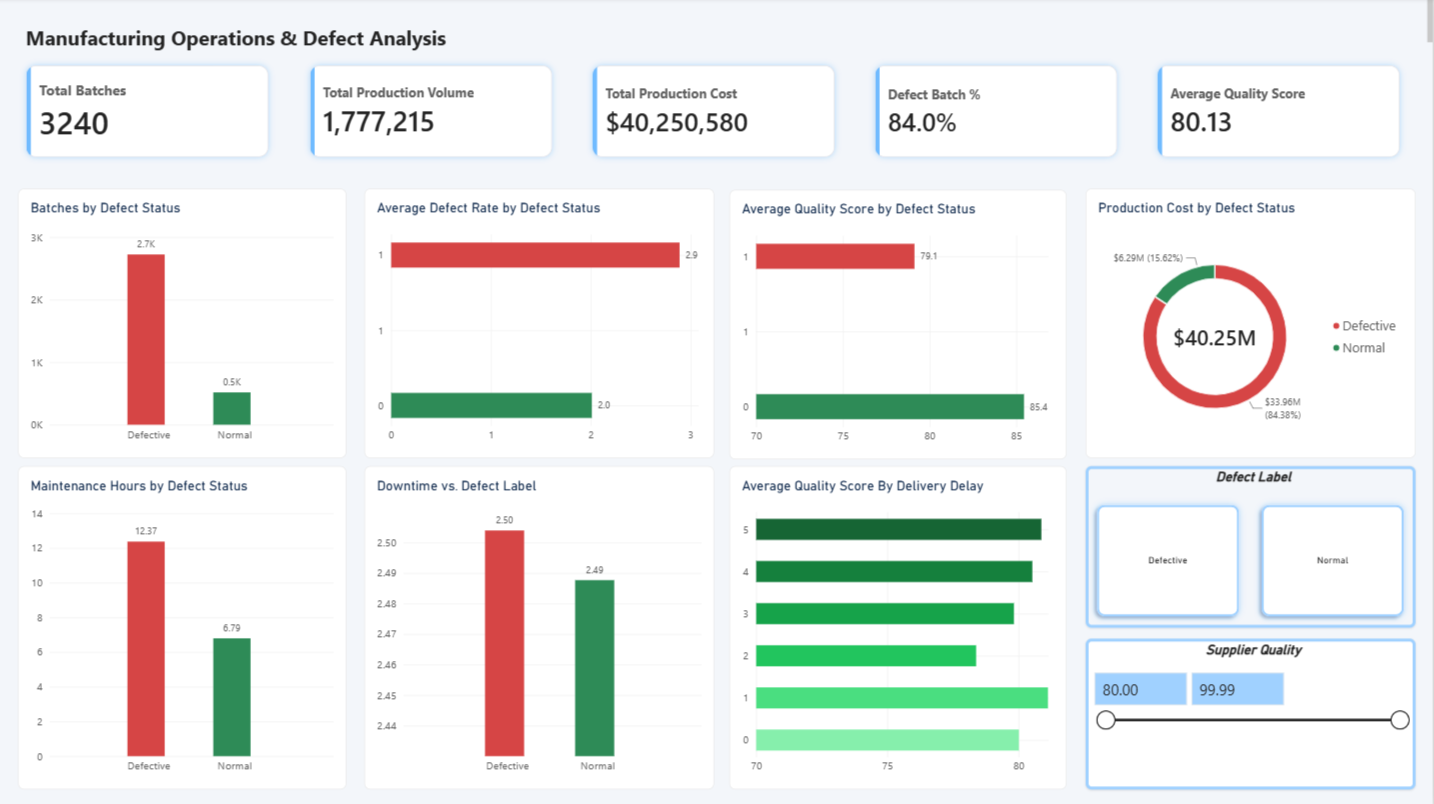

The dashboard page shown, as its layout file describes it:
{"tool":"powerbi","page":{"name":"Page 1","canvas":[1920,1080],"ordinal":0},"visuals":[{"type":"textbox","box":[10,0,280,280],"z":0},{"type":"textbox","box":[10.3,0,1910.1,80.3],"z":1000},{"type":"cardVisual","fields":{"Data":["_Measures.Total Batches"]},"box":[30.8,79.6,345.6,144.8],"z":2000},{"type":"cardVisual","fields":{"Data":["_Measures.Total Production Volume"]},"box":[409,79.6,345,144.8],"z":3000},{"type":"cardVisual","fields":{"Data":["_Measures.Total Production Cost"]},"box":[786,79.6,345,144.8],"z":4000},{"type":"cardVisual","fields":{"Data":["_Measures.Defect Batch %"]},"box":[1164,79.6,345,144],"z":5000},{"type":"cardVisual","fields":{"Data":["_Measures.Average Quality Score"]},"box":[1542,79.6,345,144.8],"z":6000},{"type":"clusteredColumnChart","title":"Batches by Defect Status","fields":{"Category":["clean_manufacturing_data.Defect Label"],"Y":["_Measures.Total Batches"]},"box":[30.9,255.2,438.4,360.2],"z":7000},{"type":"clusteredBarChart","title":"Average Defect Rate by Defect Status","fields":{"Category":["clean_manufacturing_data.DefectStatus"],"Y":["_Measures.Average Defect Rate"]},"box":[491.9,255.2,467.2,360.2],"z":8000},{"type":"clusteredBarChart","title":"Average Quality Score by Defect Status","fields":{"Category":["clean_manufacturing_data.DefectStatus"],"Y":["_Measures.Average Quality Score"]},"box":[979.8,257.3,450.8,360.2],"z":9000},{"type":"donutChart","title":"Production Cost by Defect Status","fields":{"Category":["clean_manufacturing_data.Defect Label"],"Y":["Sum(clean_manufacturing_data.ProductionCost)"]},"box":[1455.2,255.2,440.5,360.2],"z":10000},{"type":"clusteredColumnChart","title":"Maintenance Hours by Defect Status","fields":{"Category":["clean_manufacturing_data.Defect Label"],"Y":["_Measures.Avg Maintenance Hours"]},"box":[30.9,625.7,438.4,432.2],"z":11000},{"type":"clusteredColumnChart","title":"Downtime vs. Defect Label","fields":{"Category":["clean_manufacturing_data.Defect Label"],"Y":["Avg(clean_manufacturing_data.DowntimePercentage)"]},"box":[491.9,625.7,467.2,432.2],"z":12000},{"type":"clusteredBarChart","title":"Average Quality Score By Delivery Delay","fields":{"Category":["clean_manufacturing_data.DeliveryDelay"],"Y":["_Measures.Average Quality Score"]},"box":[979.8,625.7,450.8,432.2],"z":13000},{"type":"advancedSlicerVisual","fields":{"Values":["clean_manufacturing_data.Defect Label"]},"box":[1455.2,625.7,440.5,216.1],"z":14000},{"type":"slicer","title":"Supplier Quality","fields":{"Values":["clean_manufacturing_data.SupplierQuality"]},"box":[1455.2,856.3,440.5,201.7],"z":15000}]}

Visuals, with their boxes in screenshot pixels (x1, y1, x2, y2), scaled from the page's 1920x1080 canvas onto the 1434x804 screenshot:
textbox: locate(7, 0, 217, 208)
textbox: locate(8, 0, 1433, 60)
cardVisual - _Measures.Total Batches: locate(23, 59, 281, 167)
cardVisual - _Measures.Total Production Volume: locate(305, 59, 563, 167)
cardVisual - _Measures.Total Production Cost: locate(587, 59, 845, 167)
cardVisual - _Measures.Defect Batch %: locate(869, 59, 1127, 166)
cardVisual - _Measures.Average Quality Score: locate(1152, 59, 1409, 167)
"Batches by Defect Status" clusteredColumnChart: locate(23, 190, 351, 458)
"Average Defect Rate by Defect Status" clusteredBarChart: locate(367, 190, 716, 458)
"Average Quality Score by Defect Status" clusteredBarChart: locate(732, 192, 1068, 460)
"Production Cost by Defect Status" donutChart: locate(1087, 190, 1416, 458)
"Maintenance Hours by Defect Status" clusteredColumnChart: locate(23, 466, 351, 788)
"Downtime vs. Defect Label" clusteredColumnChart: locate(367, 466, 716, 788)
"Average Quality Score By Delivery Delay" clusteredBarChart: locate(732, 466, 1068, 788)
advancedSlicerVisual - clean_manufacturing_data.Defect Label: locate(1087, 466, 1416, 627)
"Supplier Quality" slicer: locate(1087, 637, 1416, 788)
